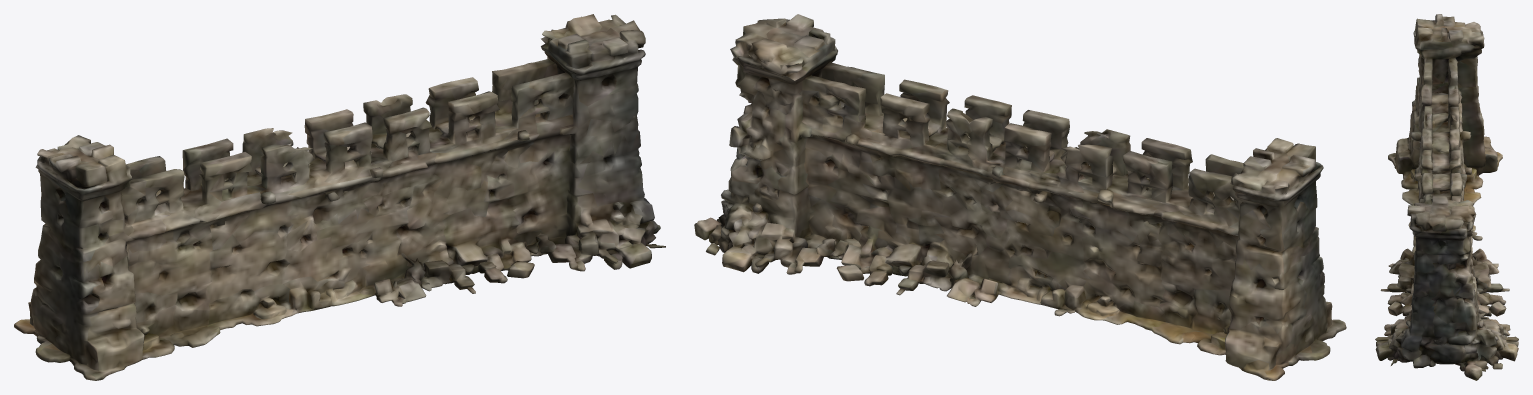
The model's file is ruin_wall.glb.
3 renders of one model, left to right at view 1: azimuth 30°, elevation 25°; view 2: azimuth 150°, elevation 25°; view 3: azimuth 270°, elevation 25°, orthographic. The views are drawn at different scales.
Visible parts, largest first — view 1: tripo_node_ca862e8e-68a7-4d2f-bc9a-3687e6d7258a; view 2: tripo_node_ca862e8e-68a7-4d2f-bc9a-3687e6d7258a; view 3: tripo_node_ca862e8e-68a7-4d2f-bc9a-3687e6d7258a.
Boxes of the visible parts, x1,y1,x2,y2 form: tripo_node_ca862e8e-68a7-4d2f-bc9a-3687e6d7258a: (14,14,665,380); tripo_node_ca862e8e-68a7-4d2f-bc9a-3687e6d7258a: (694,14,1346,380); tripo_node_ca862e8e-68a7-4d2f-bc9a-3687e6d7258a: (1375,14,1518,380).
Size of the model in its own units: 1 by 0.3157 by 0.2726.
1 material, 1 textured.
